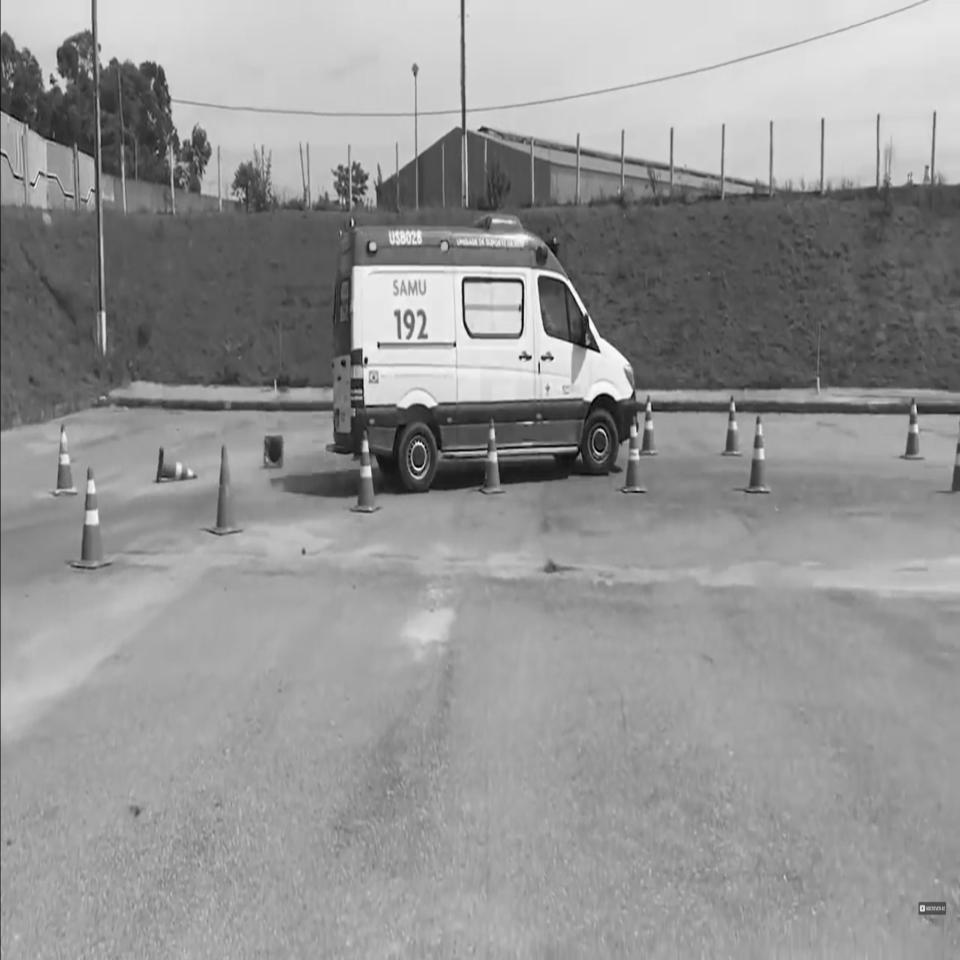ambulancia: (327, 215, 640, 492)
